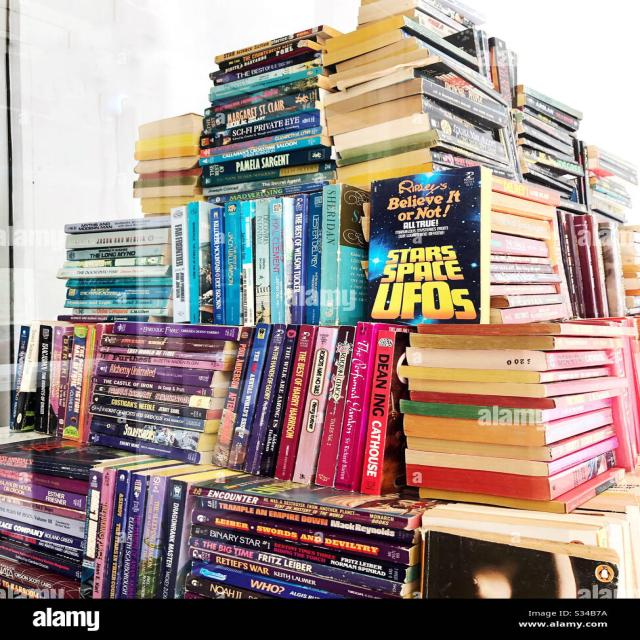book: (365, 167, 480, 323), (290, 329, 340, 484), (226, 323, 272, 473), (360, 332, 400, 497), (259, 324, 302, 475), (332, 188, 370, 323), (421, 345, 603, 371), (136, 470, 171, 598), (572, 214, 607, 318), (316, 186, 342, 324), (105, 471, 132, 598), (66, 326, 93, 438), (48, 326, 75, 434), (95, 352, 232, 373), (94, 376, 224, 398), (557, 211, 584, 316), (101, 334, 236, 354), (10, 327, 33, 429), (32, 326, 54, 430), (224, 201, 243, 320), (291, 194, 309, 318), (268, 198, 286, 320), (254, 198, 272, 319), (170, 205, 188, 322), (66, 229, 171, 249), (281, 196, 298, 318), (240, 201, 257, 321), (209, 203, 226, 322), (109, 324, 240, 339), (64, 286, 171, 302), (66, 216, 172, 232), (186, 202, 200, 323), (64, 244, 169, 260), (58, 266, 170, 279), (62, 276, 170, 289)
